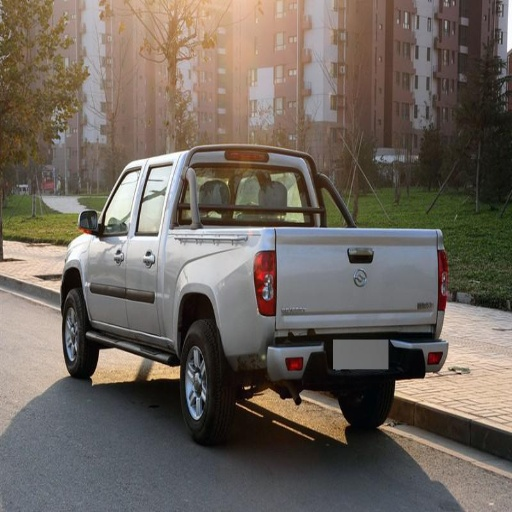_background_: (245, 314, 321, 381)
back_bumper: (198, 162, 295, 210)
back_glass: (127, 168, 170, 324)
back_left_door: (253, 250, 276, 316)
front_glass: (88, 166, 152, 329)
tailgate: (259, 230, 433, 344), (145, 231, 267, 363)
trunk: (181, 321, 230, 445), (64, 285, 97, 377), (341, 379, 392, 427)
